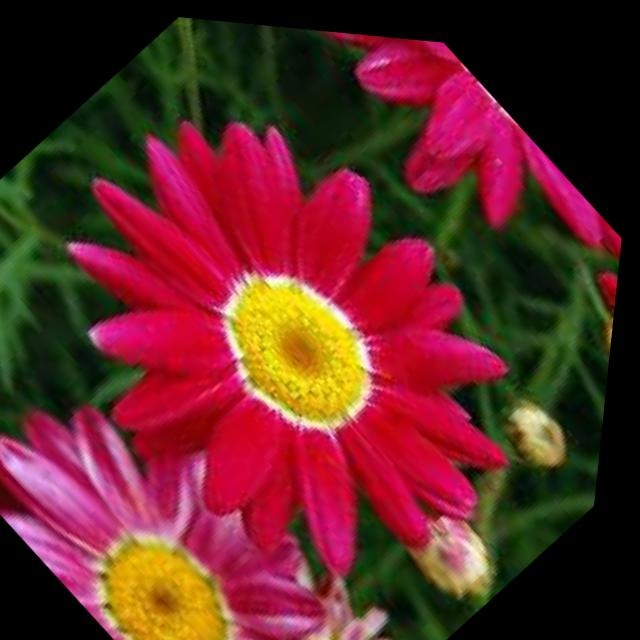Flower: (0, 20, 615, 637), (0, 315, 434, 640), (222, 18, 638, 310)
